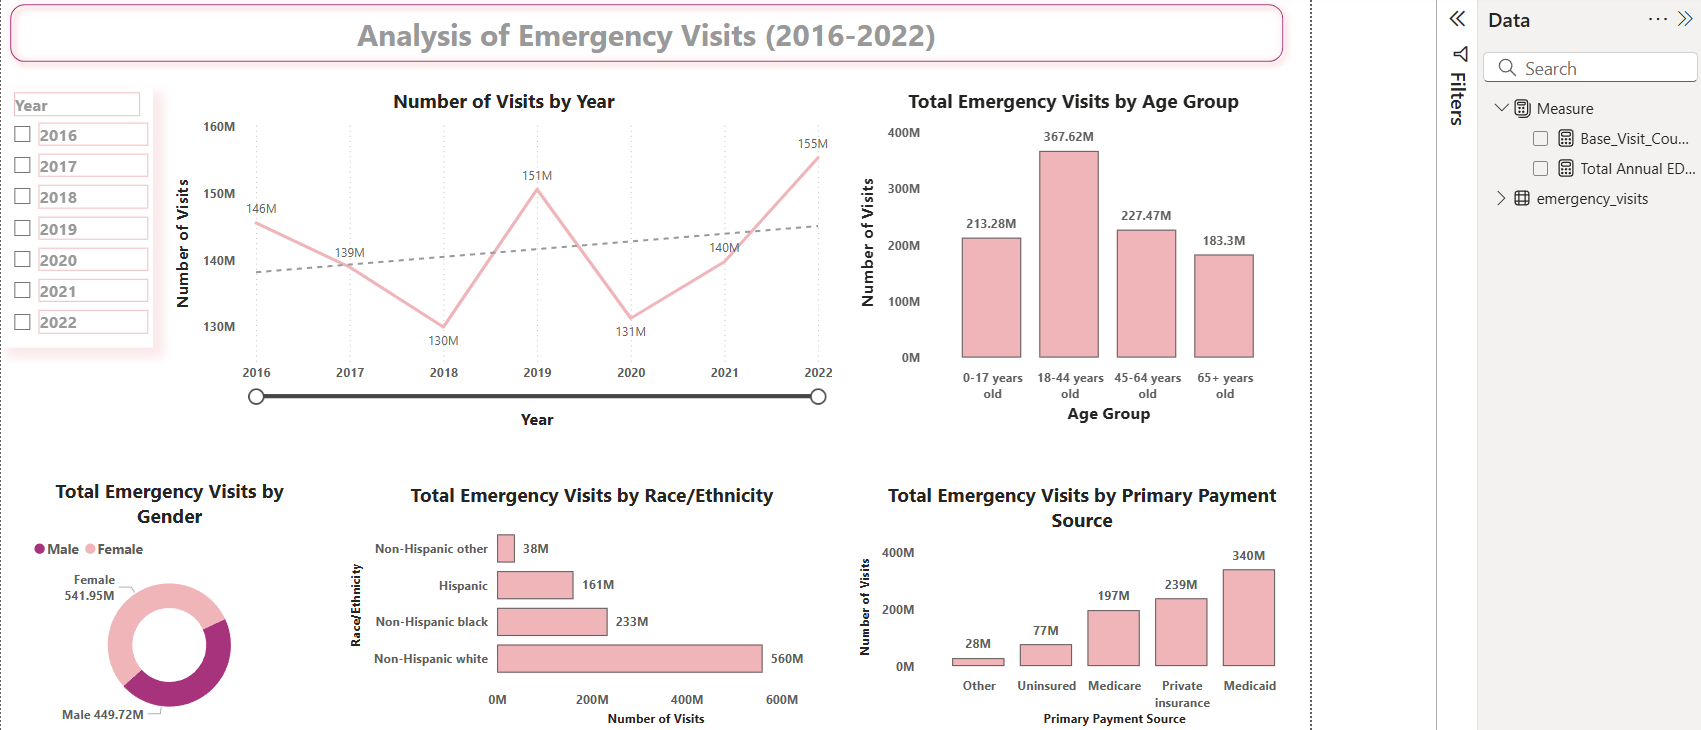

The page's visual inventory and layout, read from the dashboard file:
{"tool":"powerbi","page":{"name":"Page 1","canvas":[1280,720],"ordinal":0},"visuals":[{"type":"lineChart","fields":{"Category":["emergency_visits.year"],"Y":["Measure.Total Annual ED Visits KPI"]},"box":[165.2,90.8,653.4,334],"z":0},{"type":"donutChart","title":"Total Emergency Visits by Gender","fields":{"Y":["Measure.Base_Visit_Counts"],"Category":["emergency_visits.subgroup"]},"box":[27.2,471.9,275.9,248.7],"z":1000},{"type":"clusteredColumnChart","title":"Total Emergency Visits by Age Group","fields":{"Y":["Measure.Base_Visit_Counts"],"Category":["emergency_visits.subgroup"]},"box":[835,90.8,428.4,334],"z":2000},{"type":"barChart","title":"Total Emergency Visits by Race/Ethnicity","fields":{"Y":["Measure.Base_Visit_Counts"],"Category":["emergency_visits.subgroup"]},"box":[337.6,475.6,481,245],"z":3000},{"type":"columnChart","title":"Total Emergency Visits by Primary Payment Source","fields":{"Category":["emergency_visits.subgroup"],"Y":["Measure.Base_Visit_Counts"]},"box":[835,475.6,444.7,245],"z":4000},{"type":"shape","box":[0,0,1263.3,74.4],"z":4001},{"type":"slicer","fields":{"Values":["emergency_visits.year"]},"box":[0,90.8,148.8,254.1],"z":4002}]}

Visuals, with their boxes on the page's 1280x720 design canvas (x1, y1, x2, y2). These are canvas units, not pixel positions in the 1701x730 screenshot, which may show the page scaled, cropped or inside an application window:
lineChart - emergency_visits.year x Measure.Total Annual ED Visits KPI: (x1=165, y1=91, x2=819, y2=425)
"Total Emergency Visits by Gender" donutChart: (x1=27, y1=472, x2=303, y2=721)
"Total Emergency Visits by Age Group" clusteredColumnChart: (x1=835, y1=91, x2=1263, y2=425)
"Total Emergency Visits by Race/Ethnicity" barChart: (x1=338, y1=476, x2=819, y2=721)
"Total Emergency Visits by Primary Payment Source" columnChart: (x1=835, y1=476, x2=1280, y2=721)
shape: (x1=0, y1=0, x2=1263, y2=74)
slicer - emergency_visits.year: (x1=0, y1=91, x2=149, y2=345)
